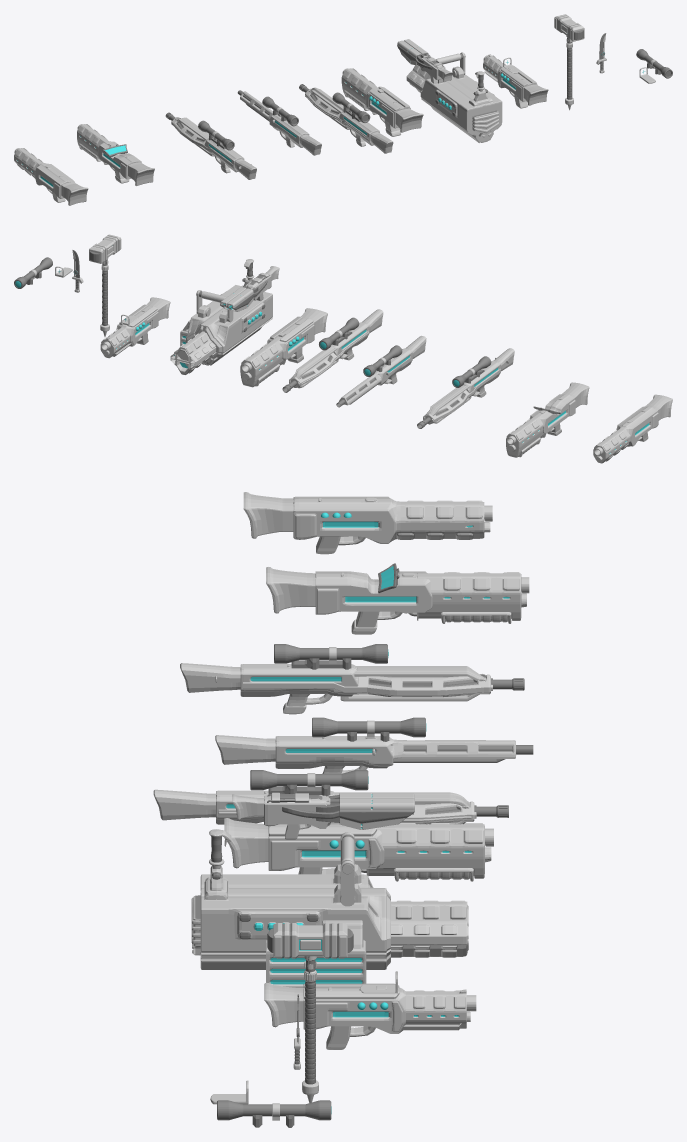
The model's file is futuristic weapons assets by niko (1).fbx.
3 renders of one model, top to bottom at view 1: azimuth 30°, elevation 25°; view 2: azimuth 150°, elevation 25°; view 3: azimuth 270°, elevation 25°, orthographic. The views are drawn at different scales.
Parts seen in each view (by area): view 1: Cube.003, Cube.009, Cube.011, Cube.014, Cube, Cube.019, Cube.012, Cube.001, Cube.005, Cylinder.003, Cube.015, Cube.013 (+4 smaller); view 2: Cube.003, Cube.009, Cube, Cube.011, Cube.019, Cube.014, Cube.001, Cube.012, Cube.015, Cube.005, Cylinder.003, Cube.013 (+4 smaller); view 3: Cube.003, Cube.009, Cube.019, Cube, Cube.001, Cube.012, Cube.014, Cube.005, Cube.015, Cube.011, Cylinder.003, Cube.013 (+6 smaller).
Boxes of the visible parts, <box> form: Cube.003: <box>406,52,502,142</box>; Cube.009: <box>14,148,88,205</box>; Cube.011: <box>305,87,393,153</box>; Cube.014: <box>365,86,423,136</box>; Cube: <box>483,54,548,108</box>; Cube.019: <box>171,117,256,179</box>; Cube.012: <box>98,141,154,185</box>; Cube.001: <box>237,90,321,155</box>; Cube.005: <box>397,39,452,83</box>; Cylinder.003: <box>554,14,584,110</box>; Cube.015: <box>341,68,379,114</box>; Cube.013: <box>77,124,110,164</box>; Cube.003: <box>170,278,272,374</box>; Cube.009: <box>593,394,672,463</box>; Cube: <box>100,297,170,358</box>; Cube.011: <box>289,309,383,388</box>; Cube.019: <box>423,348,514,424</box>; Cube.014: <box>267,308,327,363</box>; Cube.001: <box>336,335,426,407</box>; Cube.012: <box>529,382,589,435</box>; Cube.015: <box>240,337,285,387</box>; Cube.005: <box>220,266,279,311</box>; Cylinder.003: <box>89,234,121,336</box>; Cube.013: <box>506,413,545,457</box>; Cube.003: <box>191,832,468,969</box>; Cube.009: <box>243,492,492,554</box>; Cube.019: <box>180,663,492,714</box>; Cube: <box>264,982,476,1049</box>; Cube.001: <box>215,735,533,773</box>; Cube.012: <box>266,563,432,634</box>; Cube.014: <box>224,818,384,874</box>; Cube.005: <box>232,792,414,839</box>; Cube.015: <box>361,823,493,878</box>; Cube.011: <box>153,789,476,824</box>; Cylinder.003: <box>267,923,353,1102</box>; Cube.013: <box>408,572,529,620</box>.
Bounding box in the file's own units: 10029 × 1436 × 2772.
